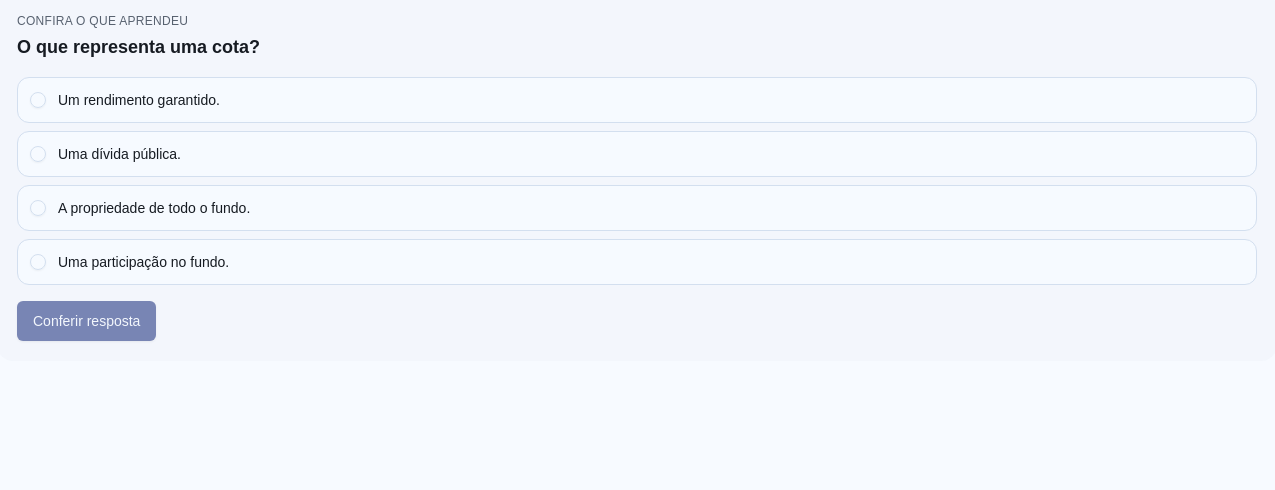
Test: AssetClassLearningQuiz › requires an answer and explains an incorrect choice without moving options
Expected: the button "Conferir resposta" is disabled, 17,301 -> 156,341
Click the radio button named "Um rendimento garantido." next to "Um rendimento garantido.": (38, 100) 30,92 -> 46,108
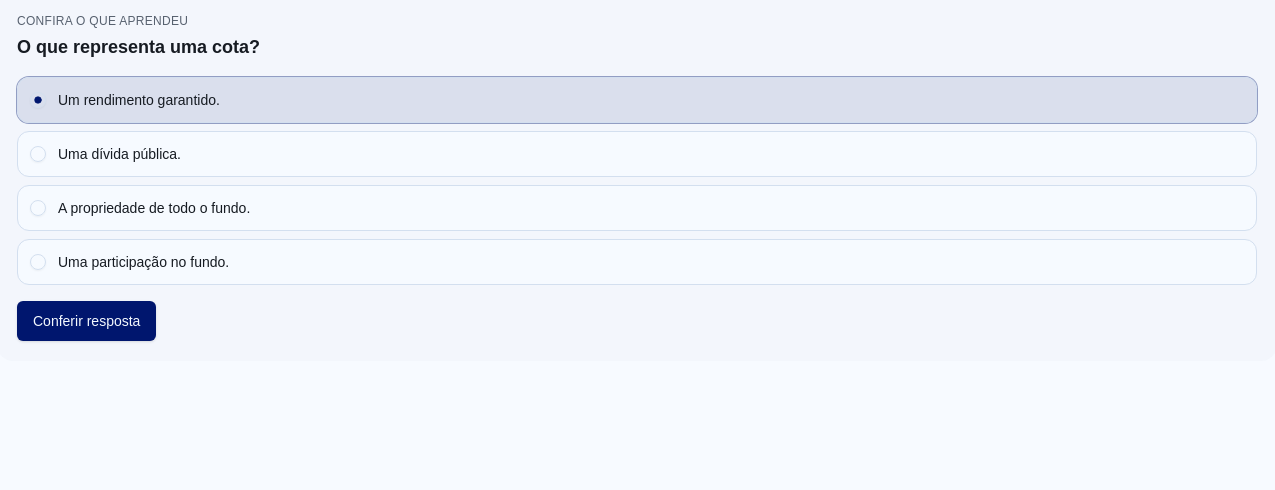
Expected: the label "Um rendimento garantido." has class "border-primary/60", 17,77 -> 1257,123
Expected: the label "Um rendimento garantido." has class "bg-primary/10", 17,77 -> 1257,123
Click the button "Conferir resposta": (87, 321) 17,301 -> 156,341
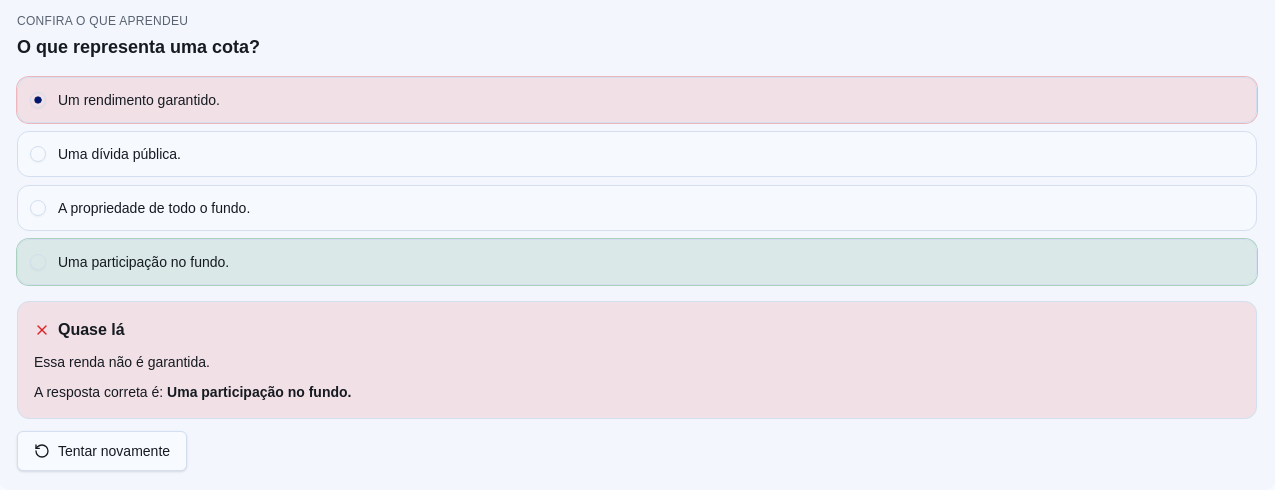
Expected: the message shows "Quase lá", 58,321 -> 125,338
Expected: the message shows "Essa renda não é garantida.", 34,354 -> 210,370
Expected: the message shows "Uma participação no fundo.", 167,384 -> 352,400
Click the button "Tentar novamente": (102, 451) 17,431 -> 187,471
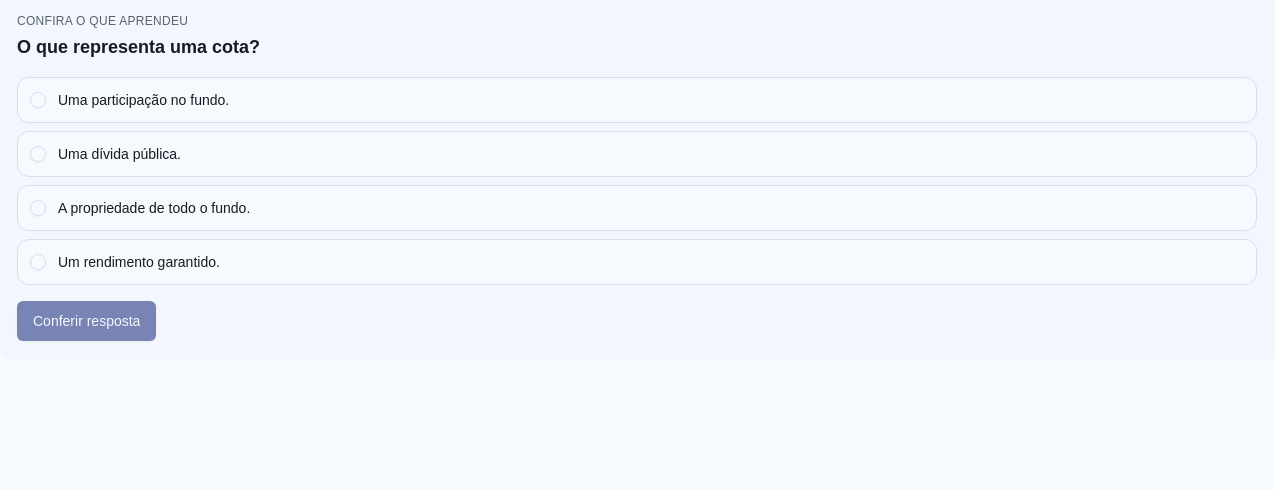
Expected: the message is gone
Expected: the button "Conferir resposta" is disabled, 17,301 -> 156,341
